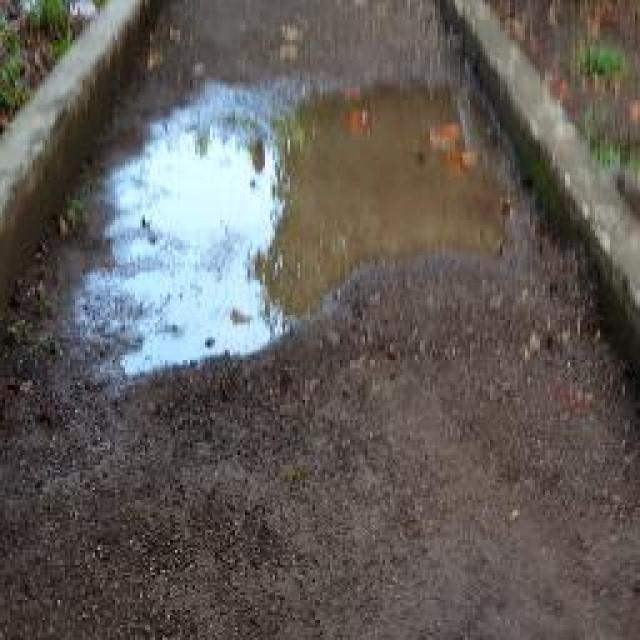puddle: (124, 80, 504, 382)
